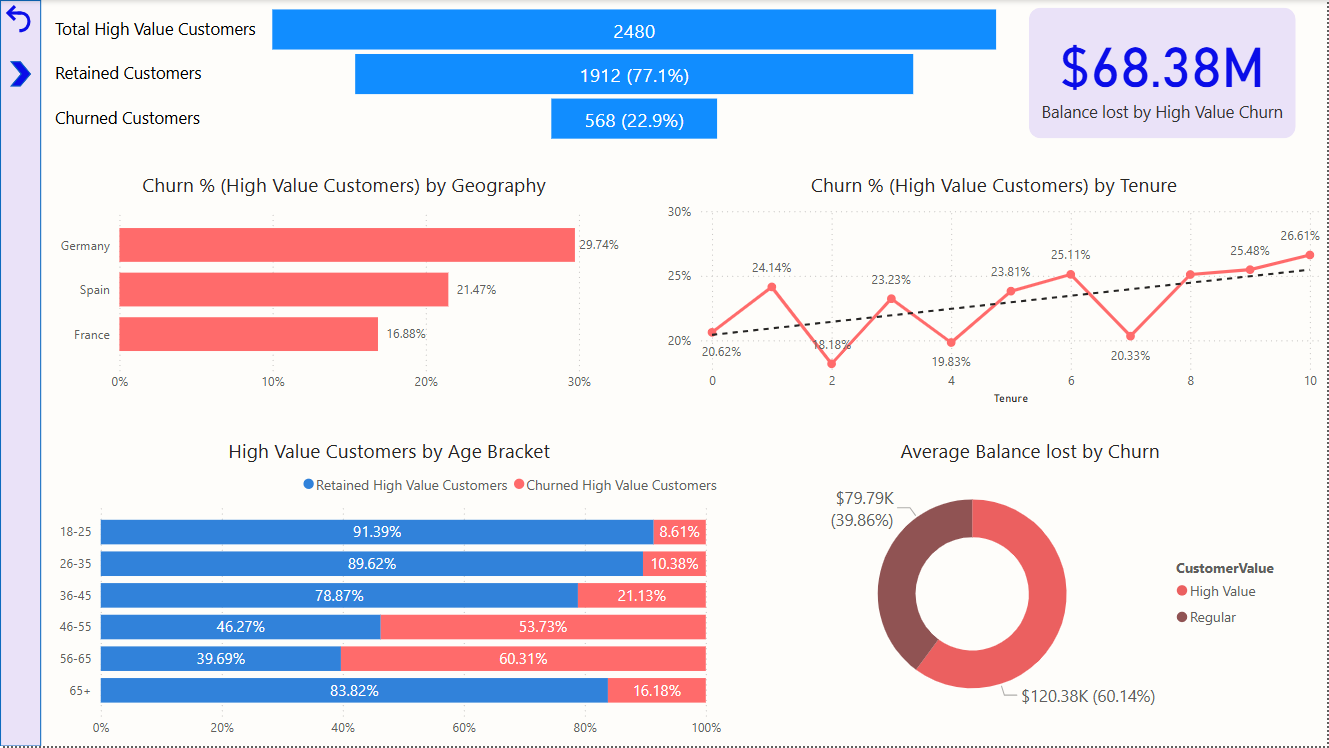

The page's visual inventory and layout, read from the dashboard file:
{"tool":"powerbi","page":{"name":"High Value Customers","canvas":[1280,720],"ordinal":2},"visuals":[{"type":"shape","box":[0,0,39.7,720.5],"z":0},{"type":"shape","box":[992.9,7.2,258.2,126.7],"z":0,"group":"g1"},{"type":"card","fields":{"Values":["Sum(Bank_Churn.Balance)"]},"box":[997.1,12.5,248.5,114.6],"z":1000,"group":"g1"},{"type":"hundredPercentStackedBarChart","title":"High Value Customers by Age Bracket","fields":{"Category":["Bank_Churn.Age Bracket"],"Y":["Measure Table.Retained High Value Customers","Measure Table.Churned High Value Customers"]},"box":[48.9,421.7,652.2,297.8],"z":1000},{"type":"lineChart","fields":{"Category":["Bank_Churn.Tenure"],"Y":["Measure Table.Churn % (High Value Customers)"]},"box":[640,165.7,640,230],"z":2000},{"type":"clusteredBarChart","fields":{"Category":["Bank_Churn.Geography"],"Y":["Measure Table.Churn % (High Value Customers)"]},"box":[48.9,165.2,565.2,221.7],"z":3000},{"type":"funnel","fields":{"Y":["Measure Table.High Value Customers","Measure Table.Retained High Value Customers","Measure Table.Churned High Value Customers"]},"box":[48.3,0,923.3,143.3],"z":4000},{"type":"donutChart","title":"Balance lost by Churn","fields":{"Category":["Bank_Churn.CustomerValue"],"Y":["Avg(Bank_Churn.Balance)"]},"box":[737.1,422.3,513.9,277.5],"z":5000},{"type":"group","id":"g1","title":"Group 2","box":[992.9,7.2,258.2,126.7],"z":6000},{"type":"actionButton","box":[0,0,63.3,35.7],"z":7000},{"type":"shape","box":[9.2,59.2,20.4,24.5],"z":9000}]}

Visuals, with their boxes on the page's 1280x720 design canvas (x1, y1, x2, y2). These are canvas units, not pixel positions in the 1329x748 screenshot, which may show the page scaled, cropped or inside an application window:
shape: pyautogui.locateOnScreen(0, 0, 40, 720)
shape: pyautogui.locateOnScreen(993, 7, 1251, 134)
card - Sum(Bank_Churn.Balance): pyautogui.locateOnScreen(997, 12, 1246, 127)
"High Value Customers by Age Bracket" hundredPercentStackedBarChart: pyautogui.locateOnScreen(49, 422, 701, 720)
lineChart - Bank_Churn.Tenure x Measure Table.Churn % (High Value Customers): pyautogui.locateOnScreen(640, 166, 1280, 396)
clusteredBarChart - Bank_Churn.Geography x Measure Table.Churn % (High Value Customers): pyautogui.locateOnScreen(49, 165, 614, 387)
funnel - Measure Table.High Value Customers x Measure Table.Retained High Value Customers: pyautogui.locateOnScreen(48, 0, 972, 143)
"Balance lost by Churn" donutChart: pyautogui.locateOnScreen(737, 422, 1251, 700)
"Group 2" group: pyautogui.locateOnScreen(993, 7, 1251, 134)
actionButton: pyautogui.locateOnScreen(0, 0, 63, 36)
shape: pyautogui.locateOnScreen(9, 59, 30, 84)
